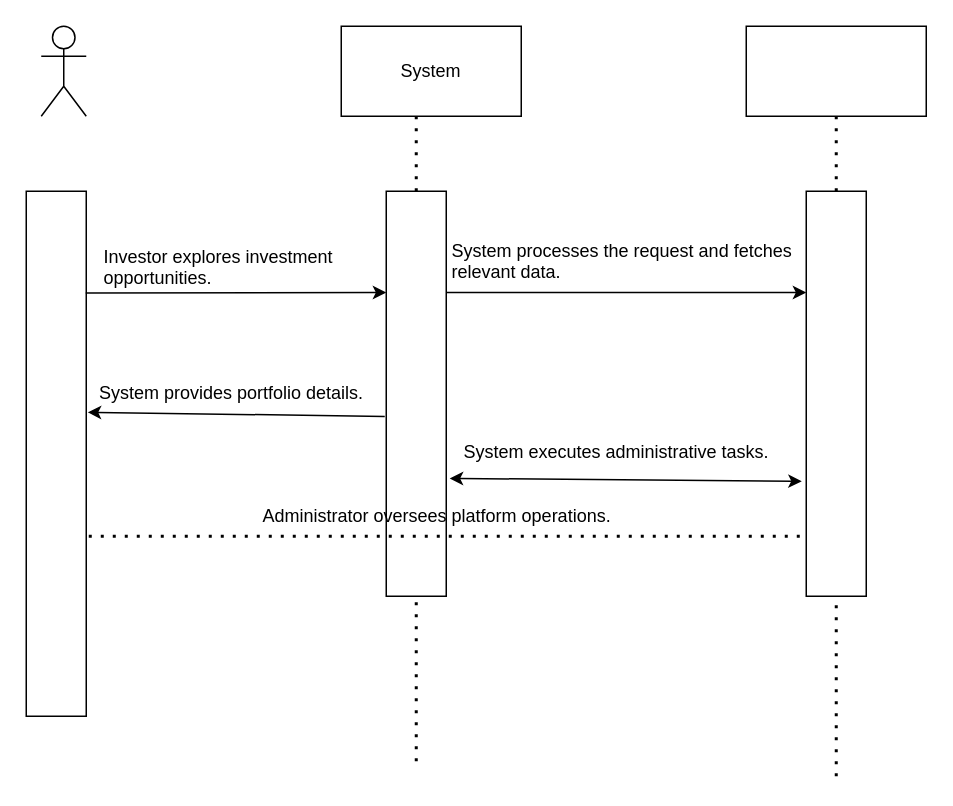
The diagram is 953 pixels wide and 806 high, and some of its shapes have lost their labels. Each missing label, with the centre of its shape:
"Administrator" goes at [835,70].
"Investor" goes at [63,70].
